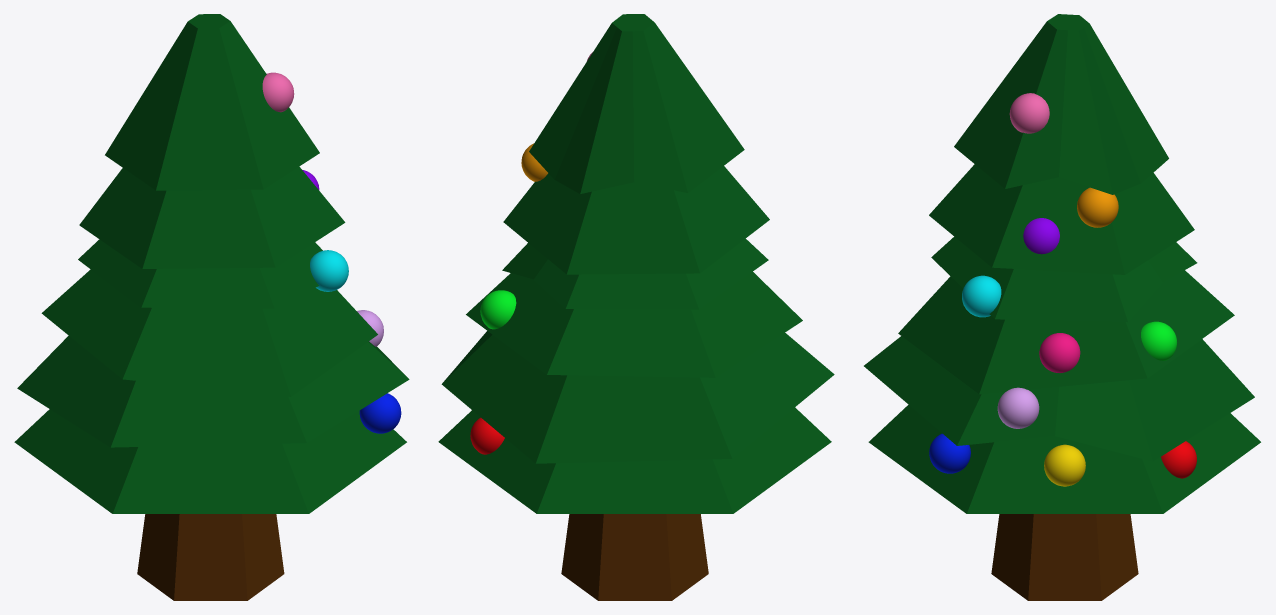
Rendered from tree1_w.fbx.
3 views of the same model, side by side, from view 1: azimuth 30°, elevation 25°; view 2: azimuth 150°, elevation 25°; view 3: azimuth 270°, elevation 25° (orthographic).
Visible parts, largest first — view 1: Cylinder.003, Cylinder.001, Cylinder.006, Cylinder.002, Cylinder.005, Cylinder, Cylinder.004, Sphere.005, Sphere.001, Sphere.009; view 2: Cylinder.002, Cylinder.006, Cylinder.003, Cylinder.005, Cylinder.001, Cylinder, Cylinder.004, Sphere.003, Sphere.004, Sphere.006; view 3: Cylinder.002, Cylinder.006, Cylinder.001, Cylinder.003, Cylinder.005, Cylinder, Cylinder.004, Sphere, Sphere.002, Sphere.008, Sphere.006, Sphere.005 (+5 smaller).
Boxes of the visible parts, box(x1,y1,x2,y2) form: Cylinder.003: box(41, 269, 377, 396); Cylinder.001: box(14, 409, 406, 513); Cylinder.006: box(105, 14, 319, 190); Cylinder.002: box(17, 335, 409, 447); Cylinder.005: box(79, 166, 345, 268); Cylinder: box(137, 514, 284, 600); Cylinder.004: box(78, 239, 322, 308); Sphere.005: box(310, 250, 348, 291); Sphere.001: box(359, 393, 401, 433); Sphere.009: box(262, 72, 294, 112); Cylinder.002: box(441, 331, 834, 463); Cylinder.006: box(529, 14, 744, 194); Cylinder.003: box(466, 271, 802, 377); Cylinder.005: box(503, 166, 769, 274); Cylinder.001: box(438, 407, 831, 513); Cylinder: box(561, 514, 708, 600); Cylinder.004: box(502, 238, 768, 309); Sphere.003: box(480, 290, 516, 329); Sphere.004: box(470, 417, 504, 454); Sphere.006: box(521, 143, 547, 181); Cylinder.002: box(864, 336, 1254, 461); Cylinder.006: box(954, 14, 1168, 194); Cylinder.001: box(868, 404, 1260, 513); Cylinder.003: box(898, 270, 1234, 394); Cylinder.005: box(929, 164, 1194, 274); Cylinder: box(991, 514, 1138, 600); Cylinder.004: box(931, 236, 1197, 322); Sphere: box(1044, 444, 1085, 486); Sphere.002: box(997, 387, 1039, 428); Sphere.008: box(1039, 333, 1080, 372); Sphere.006: box(1077, 187, 1118, 227); Sphere.005: box(962, 275, 1001, 317).
Bounding box in the file's own units: 480 × 828 × 541.
